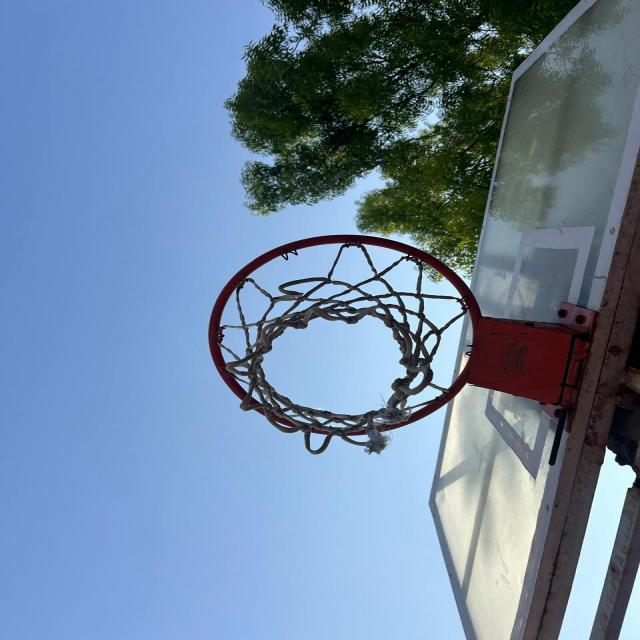hoop: (177, 236, 512, 466)
